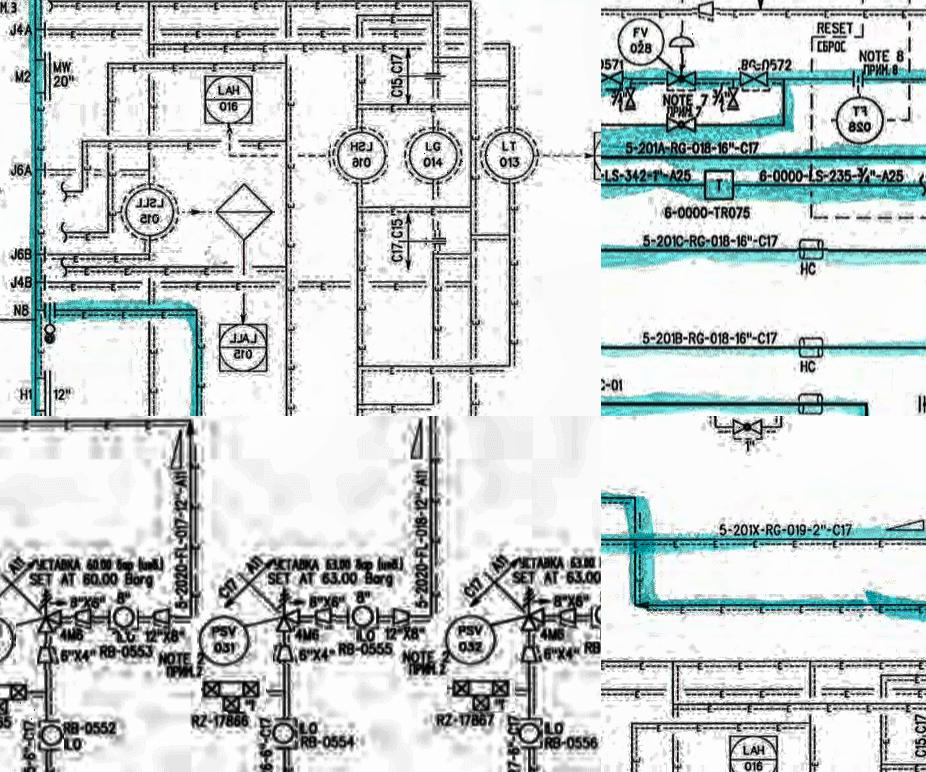2 WAY VALVE: (448, 677, 517, 714), (202, 676, 268, 713), (0, 680, 36, 719)
ANGLE RELIEF VALVE: (35, 584, 68, 640), (520, 582, 549, 636), (274, 585, 302, 636)
CONCENTRIC REDUCER: (72, 602, 95, 631), (556, 605, 582, 628), (152, 606, 175, 631), (692, 0, 720, 20), (274, 643, 296, 665), (314, 606, 336, 627), (520, 641, 538, 666), (38, 644, 55, 670), (390, 607, 413, 626)
DCS ACCESSIBLE: (212, 315, 276, 378), (196, 70, 261, 128), (725, 731, 783, 772), (586, 117, 601, 187)
DUPLEX RECEPTACLE: (793, 333, 829, 360), (794, 389, 830, 416), (797, 236, 828, 264)
END CAP: (668, 32, 697, 53)
END FLANGED: (427, 230, 446, 251)
FIELD INSTRUMENT: (117, 183, 182, 253), (481, 126, 542, 185), (331, 125, 388, 187), (404, 126, 464, 184), (614, 15, 670, 70), (831, 93, 887, 146), (198, 614, 254, 666), (445, 614, 496, 664), (108, 604, 141, 634), (34, 720, 64, 752), (347, 602, 380, 631), (271, 717, 297, 749), (0, 618, 16, 667), (519, 718, 542, 750), (592, 605, 601, 627)
GATE VALVE: (738, 68, 772, 88), (723, 84, 746, 112), (601, 66, 627, 89), (624, 82, 639, 110)
GLOBE VALVE: (661, 67, 704, 93), (729, 416, 767, 438), (667, 113, 701, 132)
HARDWIRED INTERLOCK PRIMARY.: (213, 182, 276, 240)
SPECTACLE BLIND OPEN: (41, 295, 62, 345)
